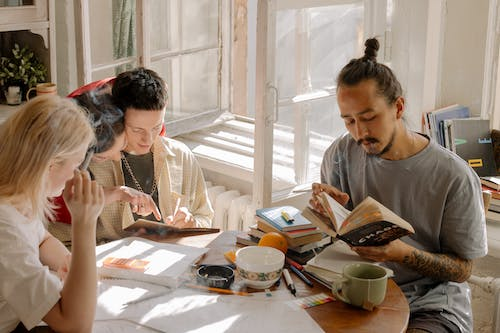cigarette: (80, 148, 96, 173), (291, 187, 313, 195)
